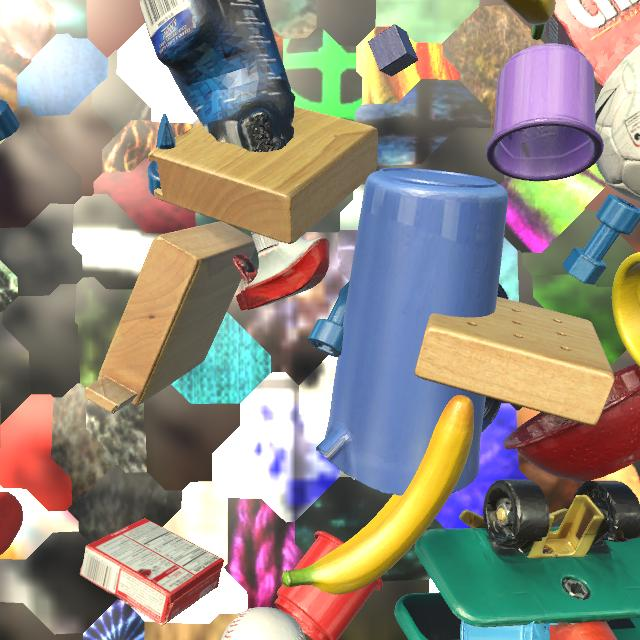ycb_003_cracker_box: (544, 0, 640, 104)
ycb_009_gelatin_box: (80, 518, 224, 625)
ycb_011_banana: (282, 395, 474, 594), (503, 0, 556, 40)
